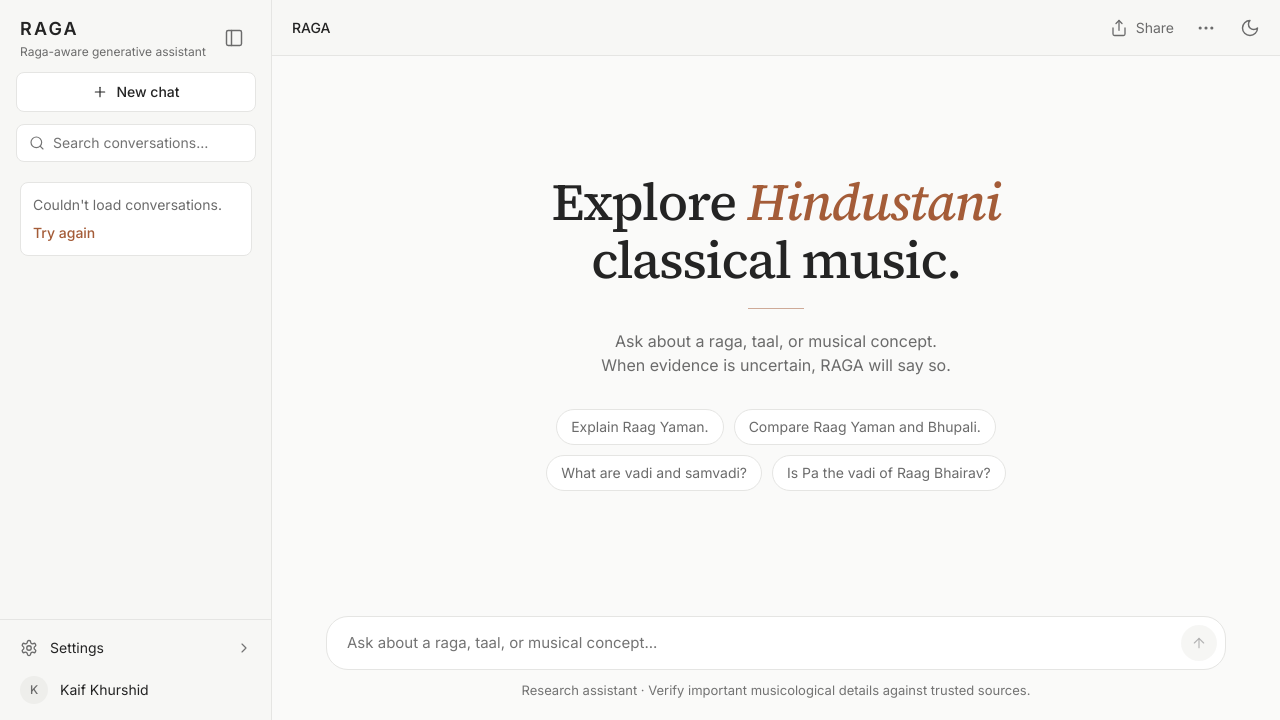
Test: App: failures › reports an unreachable backend plainly instead of a status code
The width and height of the screenshot is (1280, 720).
Check: the text "Couldn't load conversations." is shown, box [33,195,239,215]
Type "hello" into the text box named "Message" at {"x": 758, "y": 643}, box [347,625,1169,661]
Then press Enter
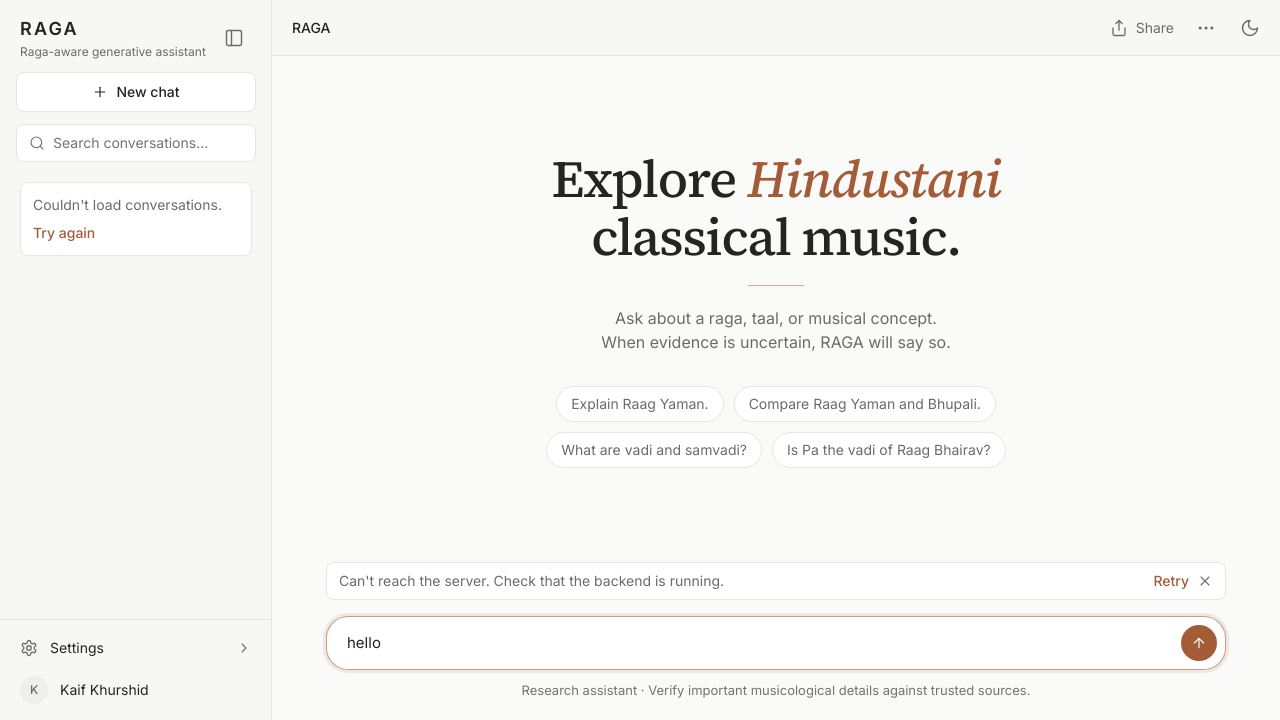
Check: the text "Can't reach the server. Check that the backend is running." is shown, box [339,571,724,591]
